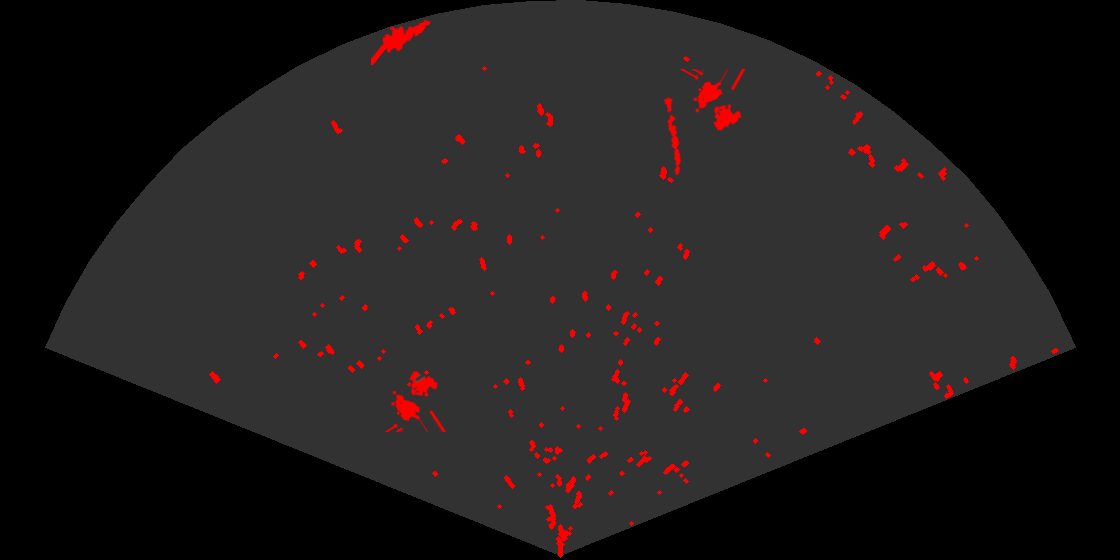cage: (678, 69, 747, 132), (383, 369, 448, 432)
chain: (662, 94, 683, 177)
frogman: (371, 18, 432, 65)
